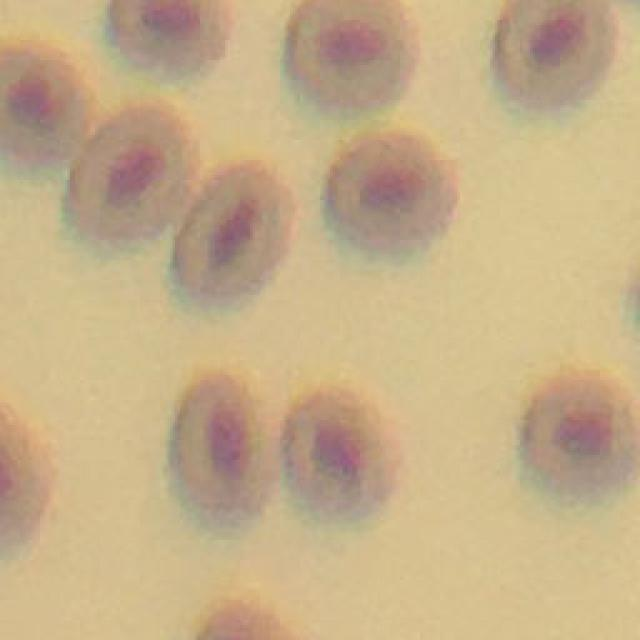RBC: (69, 101, 198, 241), (175, 161, 295, 304), (328, 132, 458, 252), (281, 388, 399, 519), (521, 372, 635, 501), (286, 0, 419, 107), (170, 372, 261, 526), (494, 0, 618, 107), (0, 42, 95, 164), (109, 0, 232, 69)
